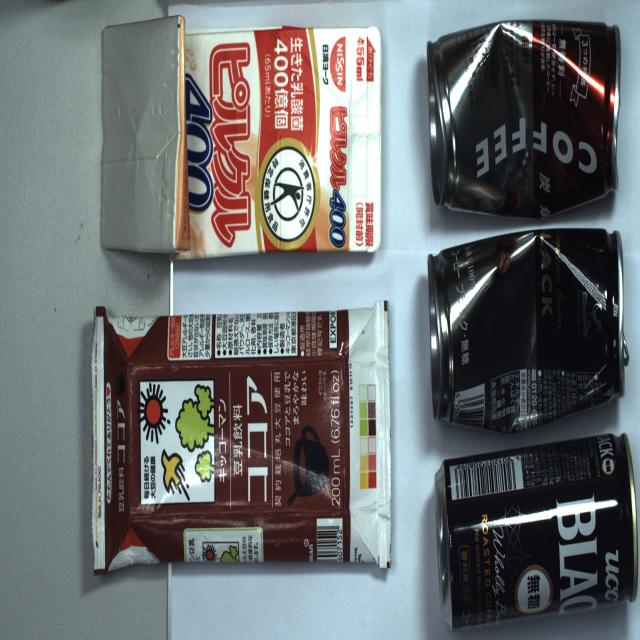Aluminium Foil: (88, 293, 400, 582), (95, 12, 386, 277)
Can: (434, 435, 640, 628), (422, 242, 632, 425), (422, 20, 622, 208)
